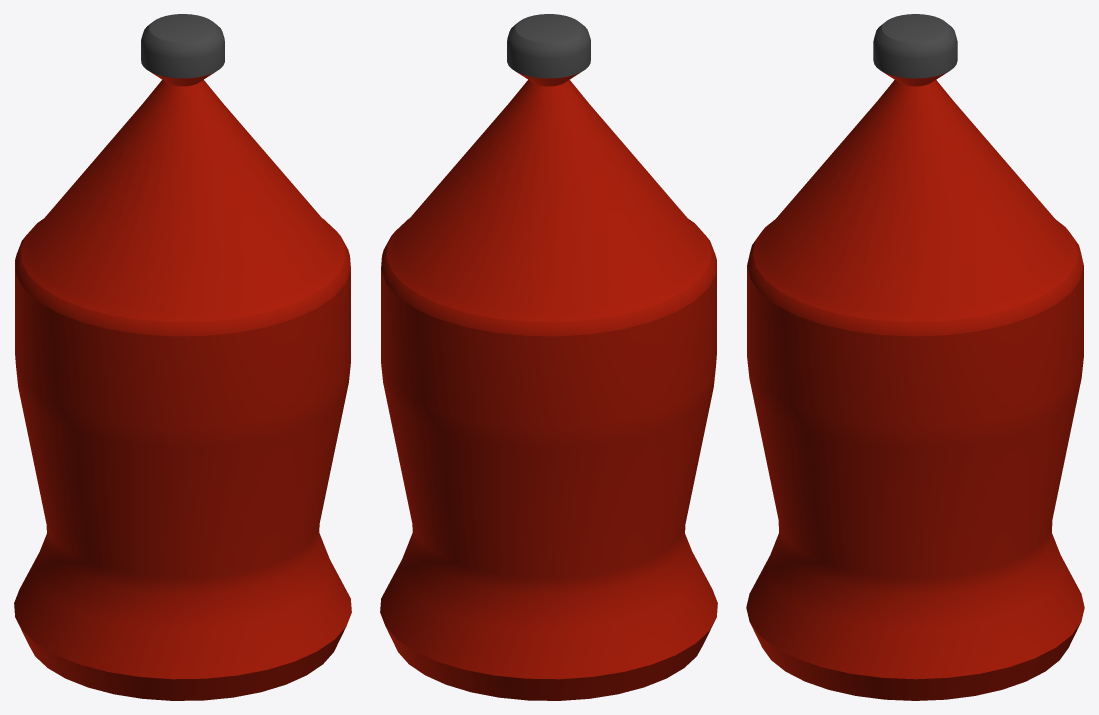
The model's file is bottle11.glb.
3 views of the same model, side by side, from view 1: azimuth 30°, elevation 25°; view 2: azimuth 150°, elevation 25°; view 3: azimuth 270°, elevation 25° (orthographic).
Parts seen in each view (by area): view 1: Bottle11; view 2: Bottle11; view 3: Bottle11.
Part boxes in pixels (left/top/right/bottom): Bottle11: left=14, top=14, right=351, bottom=700; Bottle11: left=380, top=14, right=717, bottom=700; Bottle11: left=746, top=14, right=1084, bottom=700.
Size of the model in its own units: 1.07 by 2.15 by 1.07.
